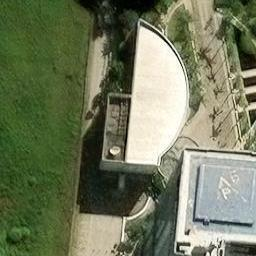heliponto: (197, 165, 255, 222)
